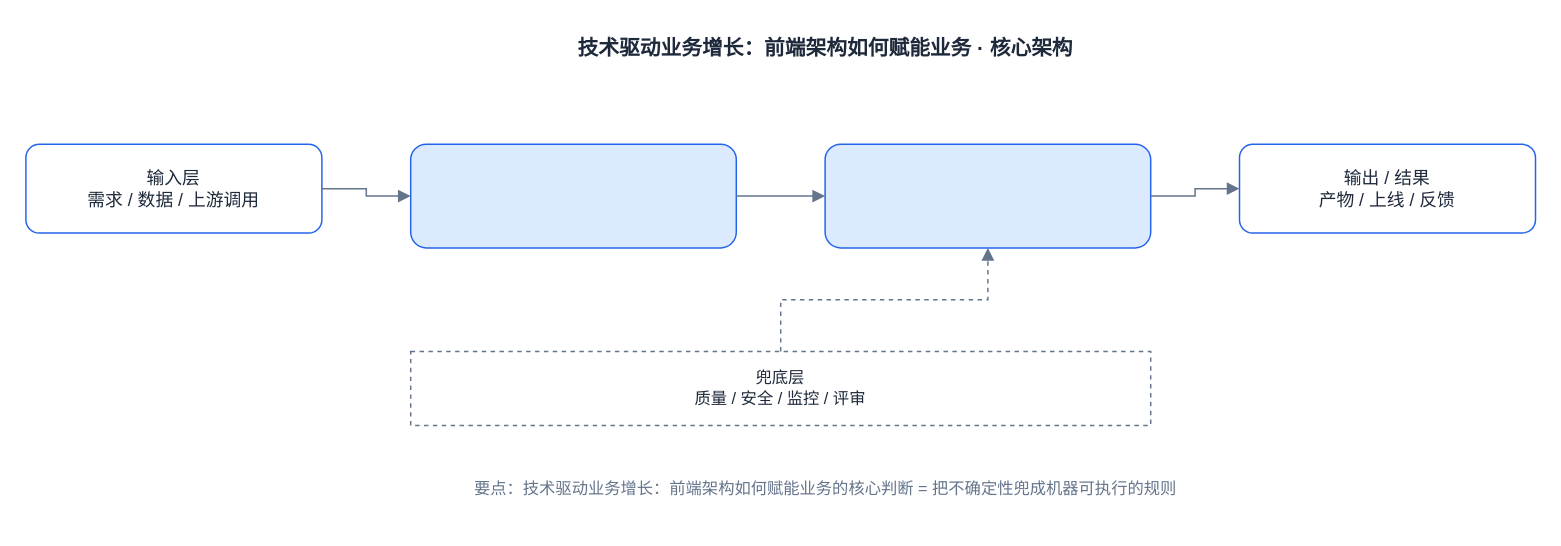
The diagram is 1561 pixels wide and 546 high, and some of its shapes have lost their labels. The centre of each missing label's shape, as x and y in pixels:
"核心模块一 技术驱动业务增长：前端架构如何赋能业务的左侧关键链路" belongs at point 572,195.
"核心模块二 技术驱动业务增长：前端架构如何赋能业务的右侧关键链路" belongs at point 987,195.
